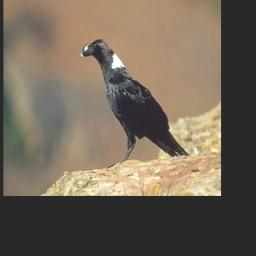Crow: (80, 37, 191, 168)
